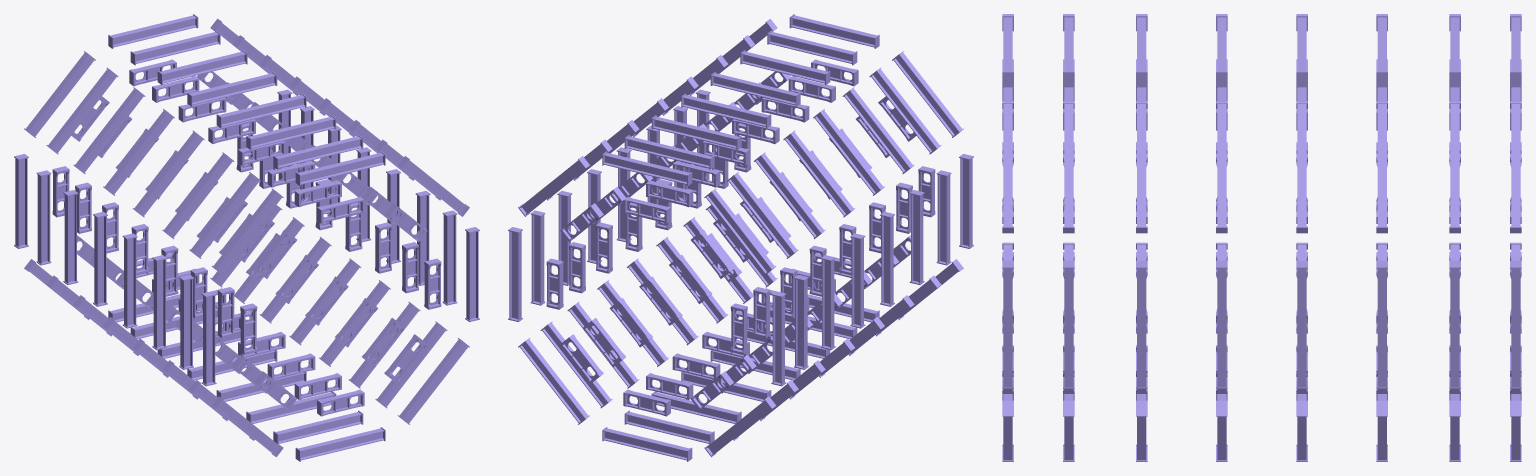
The model's file is Warm-Structure.gltf.
The picture shows the model from 3 angles, left to right: view 1: azimuth 30°, elevation 25°; view 2: azimuth 150°, elevation 25°; view 3: azimuth 270°, elevation 25°; orthographic projection. The views are drawn at different scales.
Visible parts, largest first — view 1: _06B66C38, _221A7DB8; view 2: _06B66C38, _221A7DB8; view 3: _06B66C38, _221A7DB8.
Part boxes in pixels (x1,y1,x2,y2): _06B66C38: (14, 14, 479, 461); _221A7DB8: (375, 191, 430, 285); _06B66C38: (508, 14, 973, 461); _221A7DB8: (646, 125, 701, 208); _06B66C38: (1002, 14, 1521, 461); _221A7DB8: (1136, 260, 1147, 388).
Bounding box in the file's own units: 18.28 × 18.28 × 22.19.
